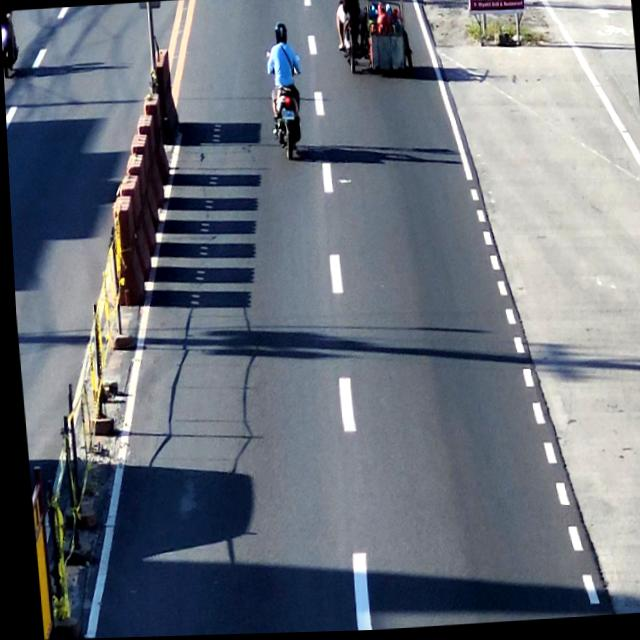License-Plate: (280, 108, 294, 124)
Motorcycle: (264, 26, 303, 164)
Tricycle: (335, 0, 412, 75)
